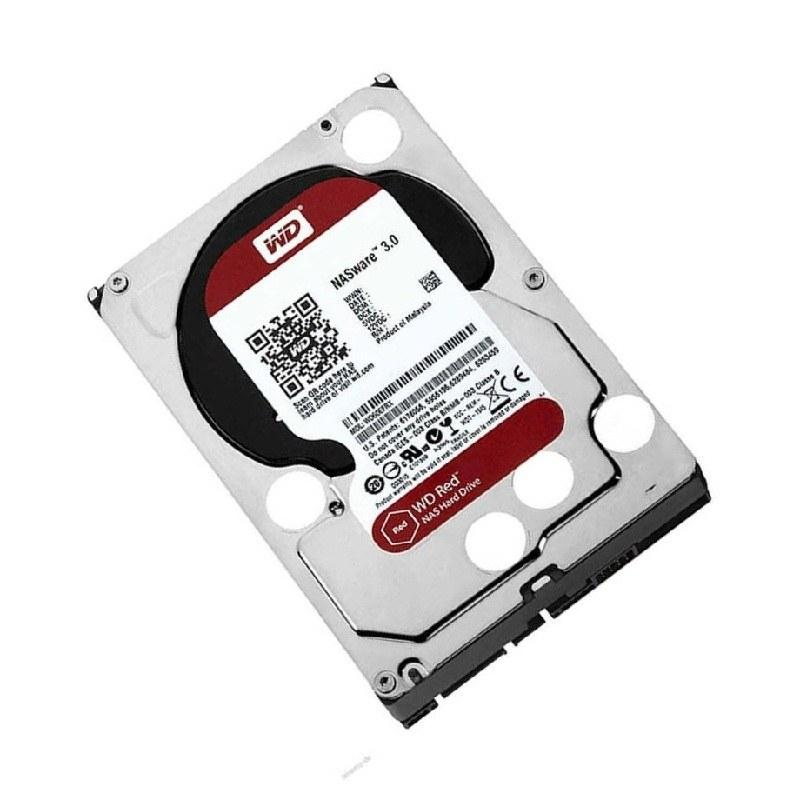internal HDD: (84, 75, 713, 731)
